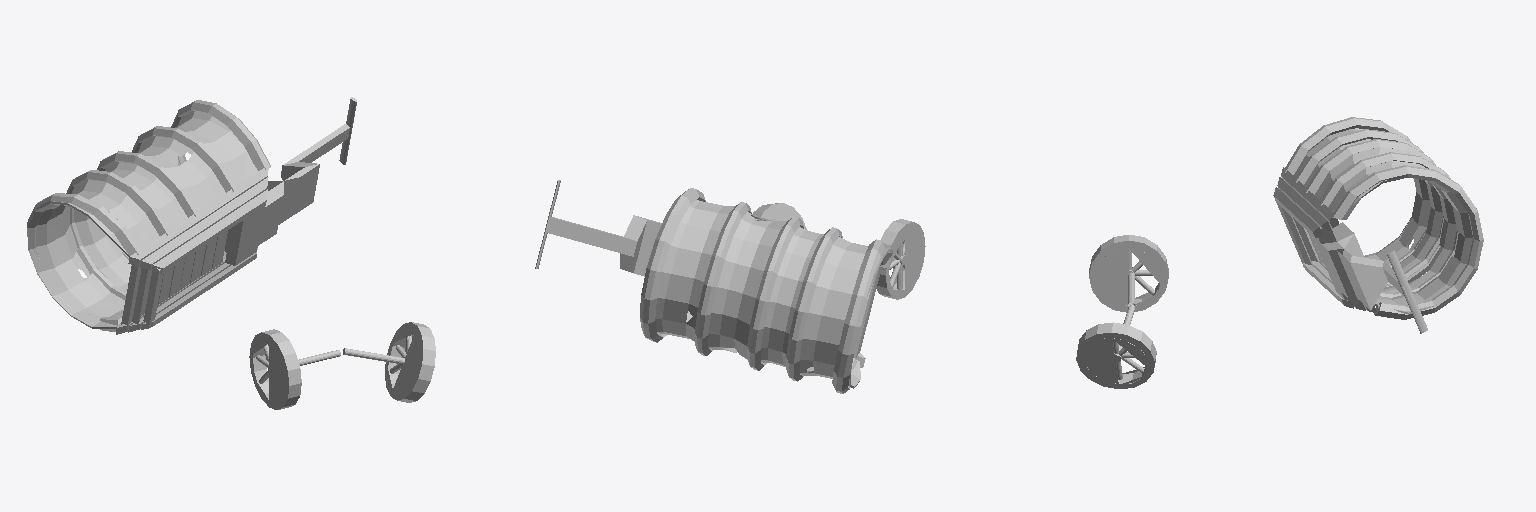
Rendered from WagonBroken.obj.
3 renders of one model, left to right at view 1: azimuth 30°, elevation 25°; view 2: azimuth 150°, elevation 25°; view 3: azimuth 270°, elevation 25°, orthographic.
Visible parts, largest first — view 1: Cylinder, Cylinder.003_Cylinder.009; view 2: Cylinder, Cylinder.003_Cylinder.009; view 3: Cylinder, Cylinder.003_Cylinder.009.
Part boxes in pixels (left/top/right/bottom): Cylinder: left=27, top=97, right=356, bottom=334; Cylinder.003_Cylinder.009: left=249, top=322, right=435, bottom=409; Cylinder: left=535, top=180, right=892, bottom=393; Cylinder.003_Cylinder.009: left=753, top=203, right=925, bottom=299; Cylinder: left=1273, top=117, right=1483, bottom=333; Cylinder.003_Cylinder.009: left=1076, top=235, right=1168, bottom=388.
Bounding box in the file's own units: 5.05 × 3.03 × 5.56.